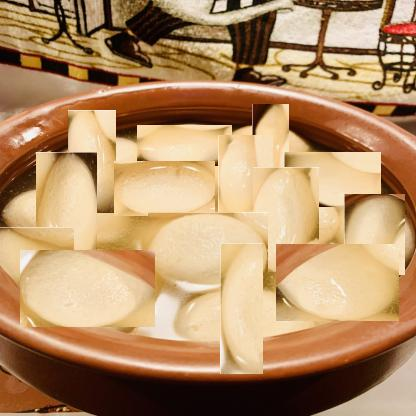rasgulla: (19, 250, 155, 328), (148, 212, 268, 293), (275, 243, 399, 321), (19, 169, 114, 264), (198, 265, 285, 352), (244, 177, 329, 263), (113, 160, 215, 216), (55, 124, 130, 200), (284, 152, 381, 208), (339, 199, 411, 270), (210, 143, 281, 214), (0, 227, 74, 286), (136, 124, 232, 166), (241, 114, 300, 173)
